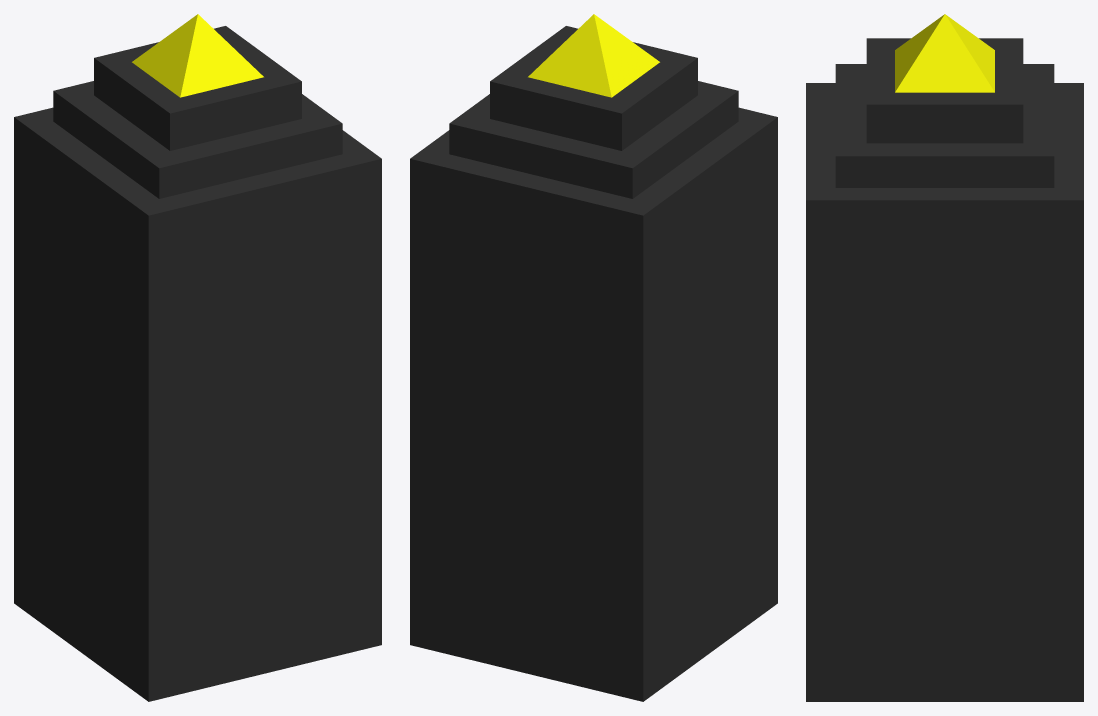
Rendered from Intersección.fbx.
3 renders of one model, left to right at view 1: azimuth 30°, elevation 25°; view 2: azimuth 150°, elevation 25°; view 3: azimuth 270°, elevation 25°, orthographic. The views are drawn at different scales.
Visible parts, largest first — view 1: Intersección; view 2: Intersección; view 3: Intersección.
Part boxes in pixels (x1,y1,x2,y2): Intersección: (14,14,381,701); Intersección: (410,14,777,701); Intersección: (806,14,1083,701).
Size of the model in its own units: 200 by 500 by 200.
